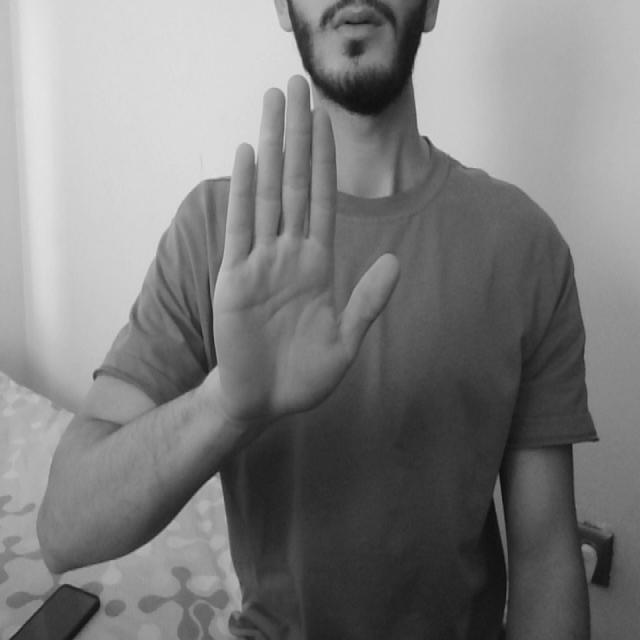Dur: (198, 60, 404, 416)
